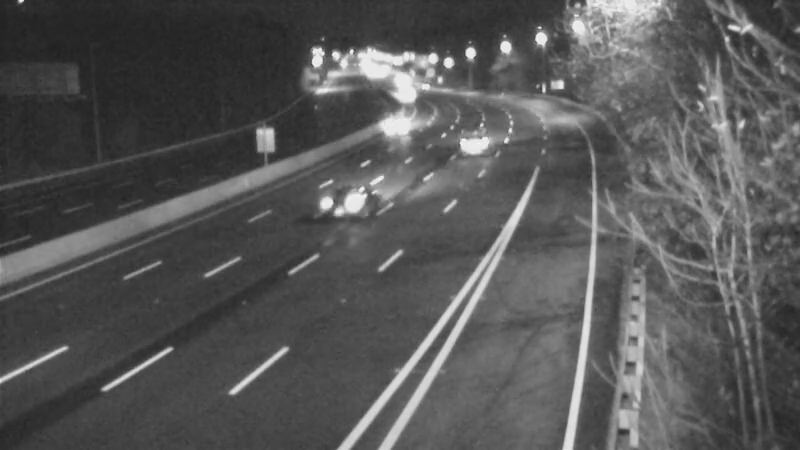vehicle: (308, 162, 388, 242), (384, 71, 434, 121), (375, 98, 425, 148), (450, 120, 500, 170)
